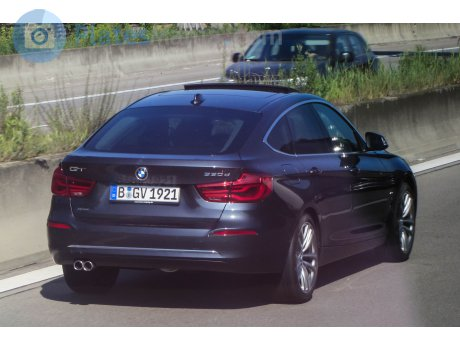License Plates: (119, 184, 179, 198)
